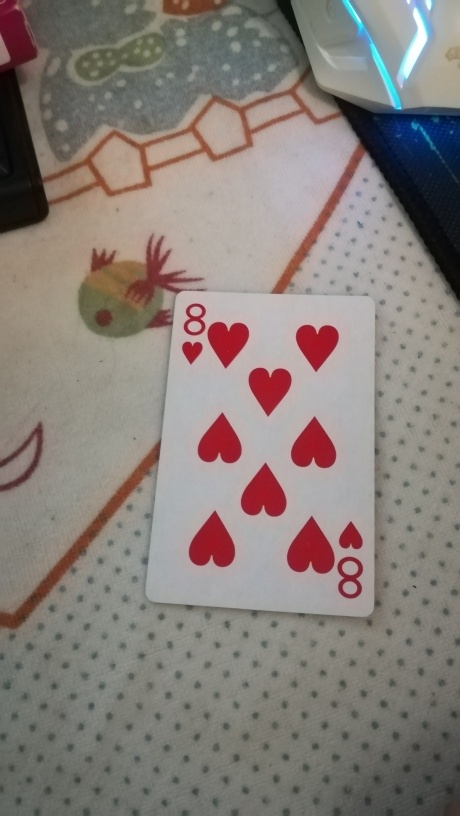hx 8: (145, 289, 376, 619)
